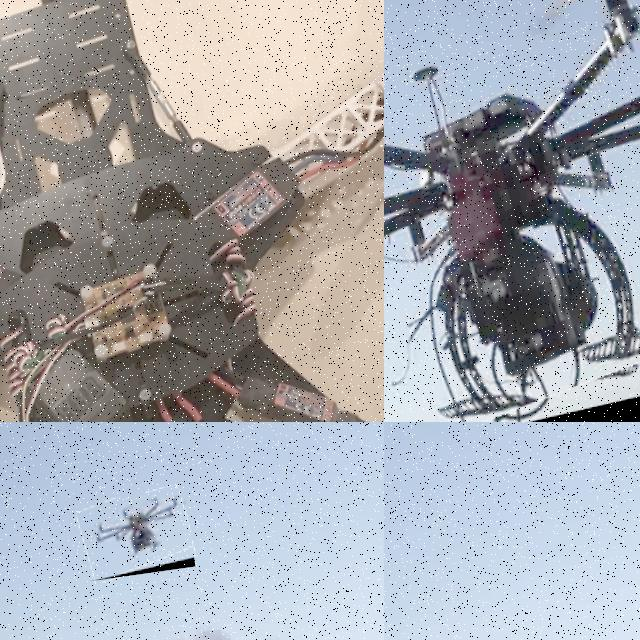0: (384, 0, 640, 422), (78, 488, 196, 582)
drone: (0, 0, 384, 422)
